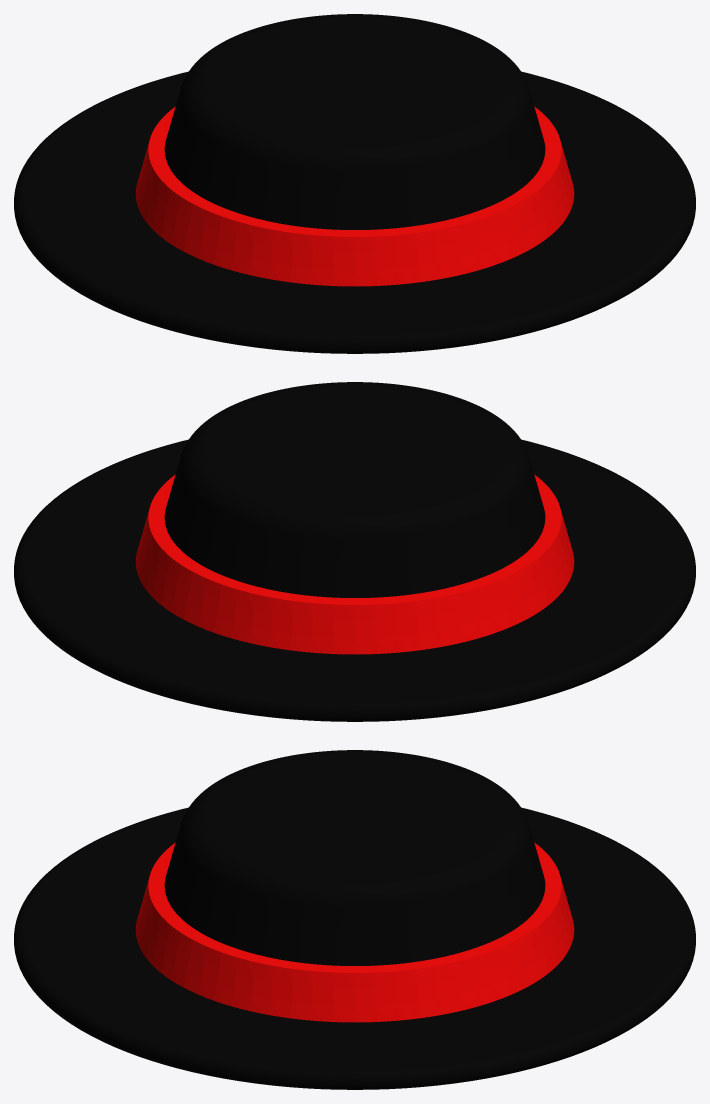
File: Hat_Flat.glb
3 renders of one model, top to bottom at view 1: azimuth 30°, elevation 25°; view 2: azimuth 150°, elevation 25°; view 3: azimuth 270°, elevation 25°, orthographic.
Parts seen in each view (by area): view 1: Node1, Node2; view 2: Node1, Node2; view 3: Node1, Node2.
Part boxes in pixels (x1,y1,x2,y2): Node1: (14, 14, 695, 353); Node2: (135, 106, 574, 286); Node1: (14, 382, 695, 721); Node2: (135, 474, 574, 654); Node1: (14, 750, 695, 1089); Node2: (135, 842, 574, 1022).
Size of the model in its own units: 84 by 18 by 83.97.
